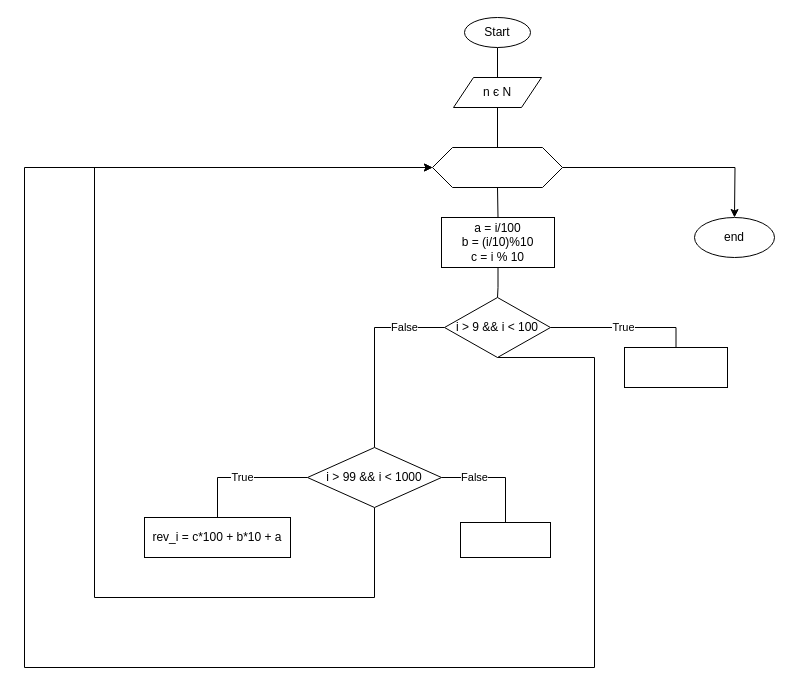
This 792x693 diagram has some shape labels left out. Here are the shapes that lost their labels. From the top down, the box of each, then its label:
(432, 146, 562, 188): i = 1, i < n, i++
(624, 346, 728, 388): rev_i = c*10 + i/10
(460, 522, 550, 558): rev_i = i
